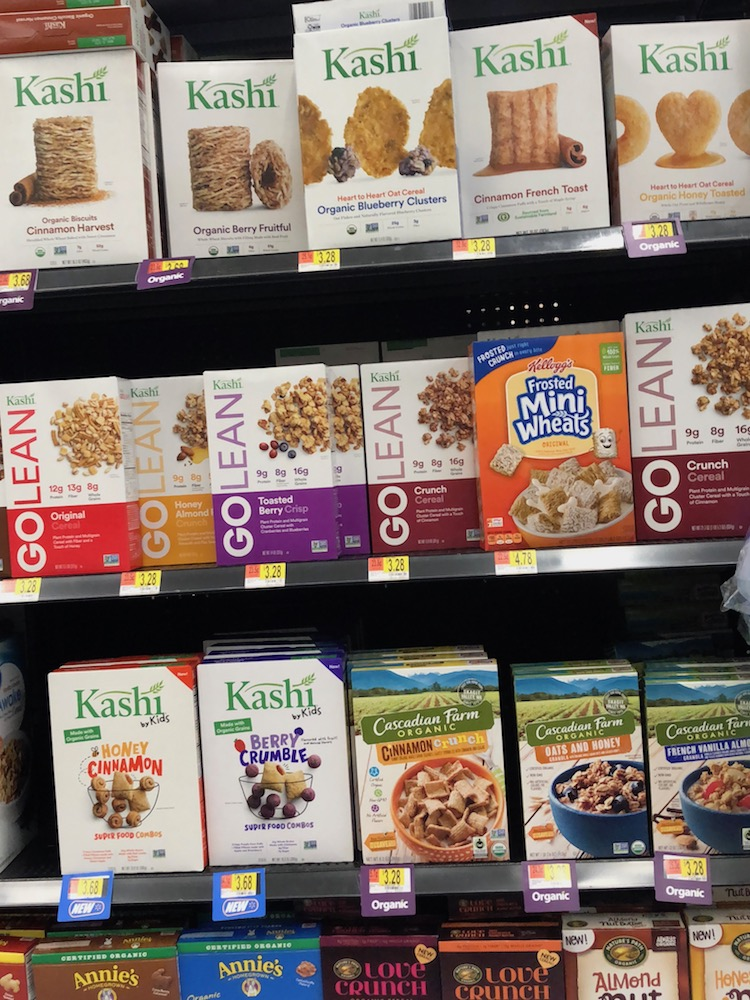Frosted Mini Original -9295869: (478, 336, 637, 529)
